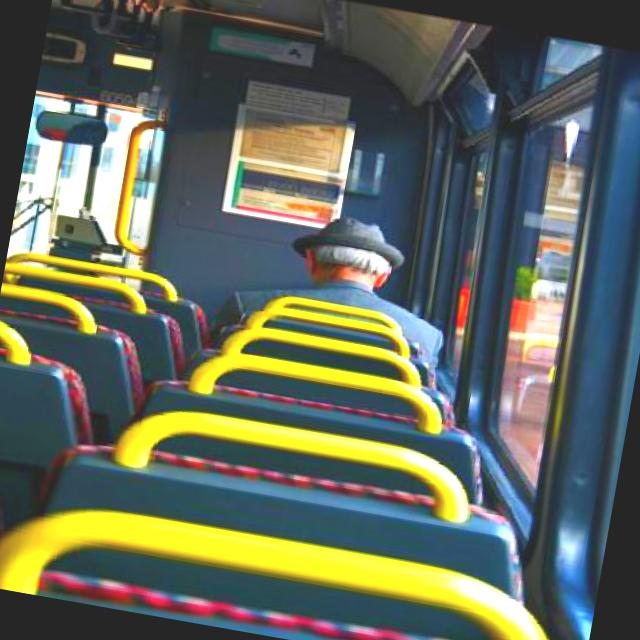Person: (200, 196, 462, 386)
